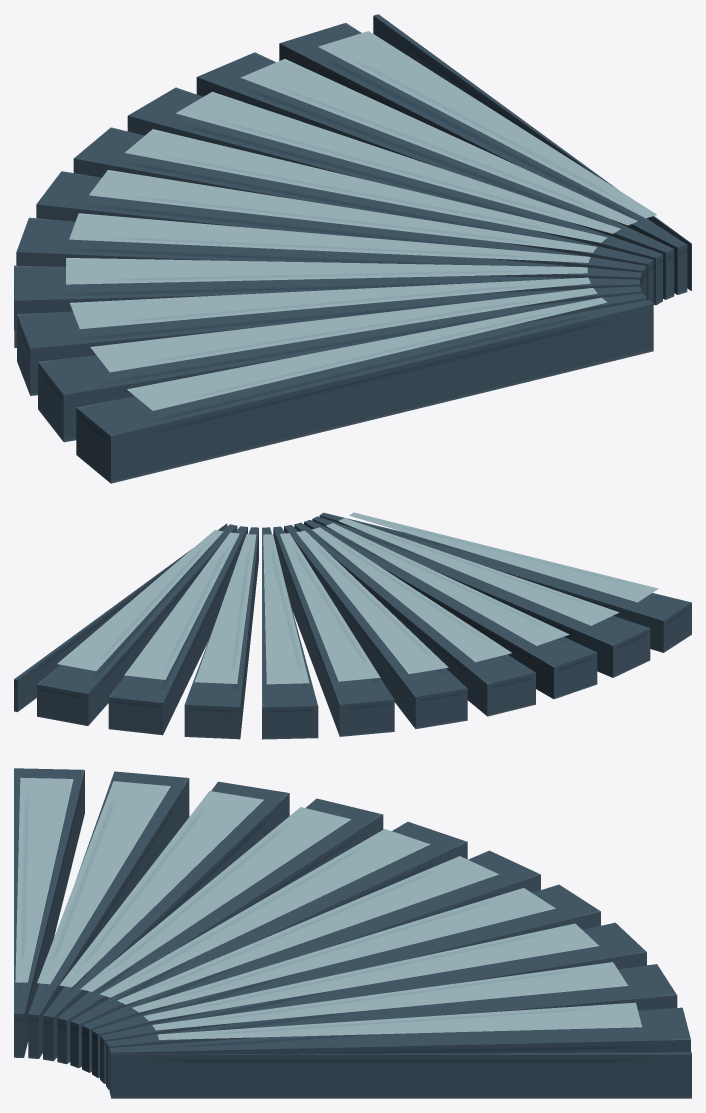
Rendered from sc_tread_curve_right_8.obj.
The picture shows the model from 3 angles, top to bottom: view 1: azimuth 30°, elevation 25°; view 2: azimuth 150°, elevation 25°; view 3: azimuth 270°, elevation 25°; orthographic projection. The views are drawn at different scales.
Bounding box in the file's own units: 17.5 × 1.56 × 17.5.
1 material, 1 textured.
